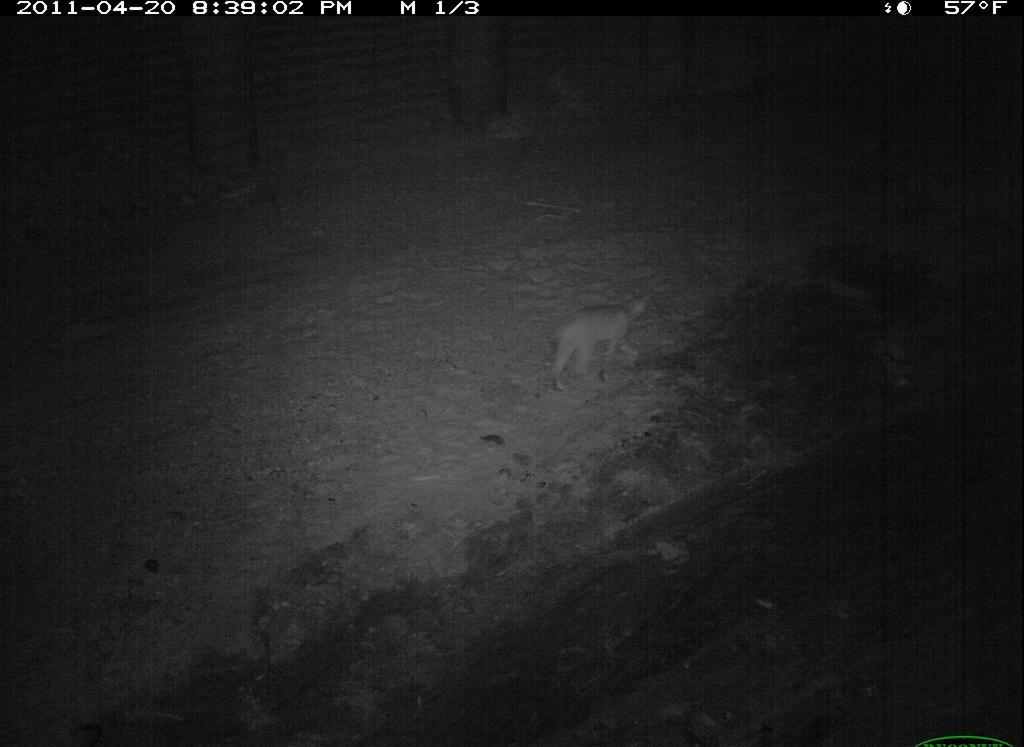bobcat: (542, 281, 667, 397)
